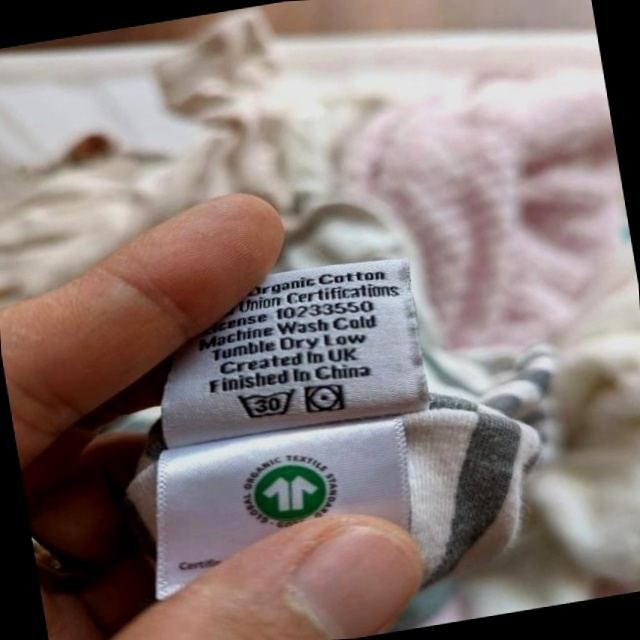30C: (231, 382, 302, 426)
tumble_dry_low: (300, 378, 350, 420)
